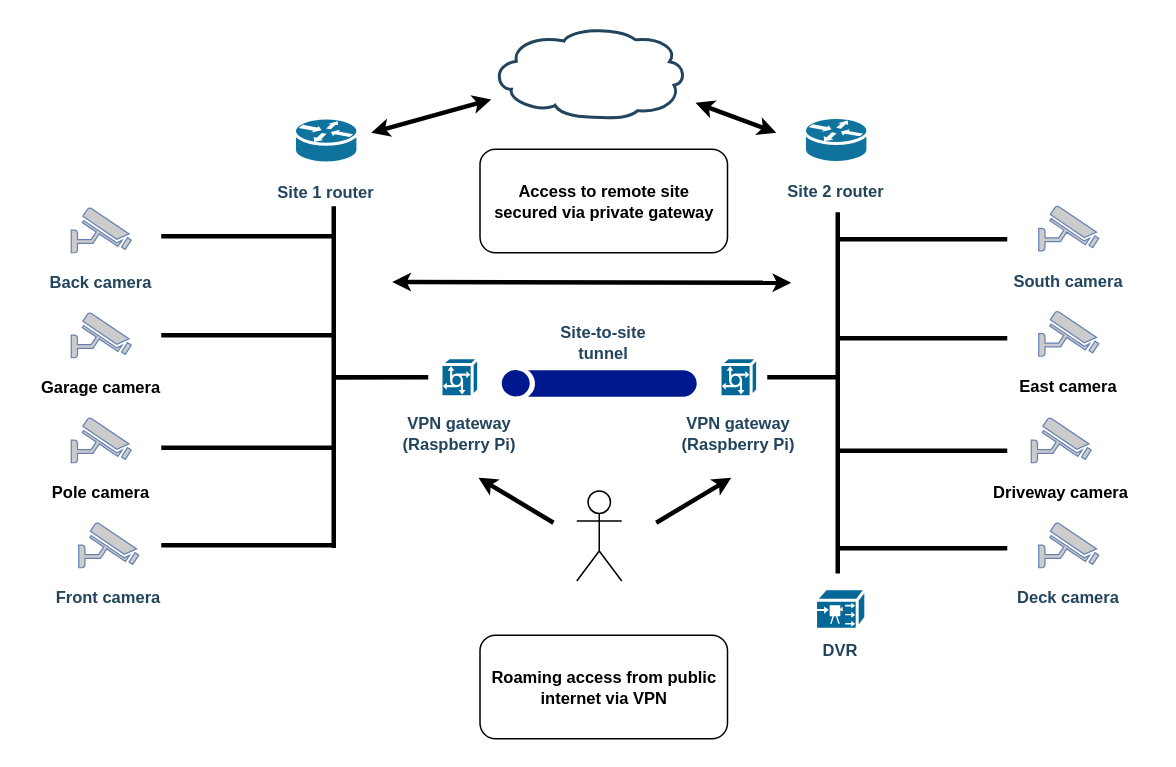
Some shapes in this 1176 by 767 pixel diagram are drawn without their labels. Here are the shapes that lost their labels. From the top down, the centre of each, then its label:
(x=588, y=71): Internet
(x=598, y=535): Roaming client
